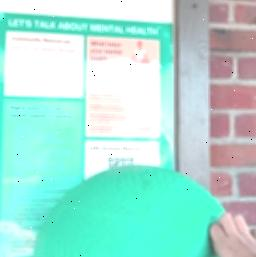algae: (31, 164, 246, 257)
